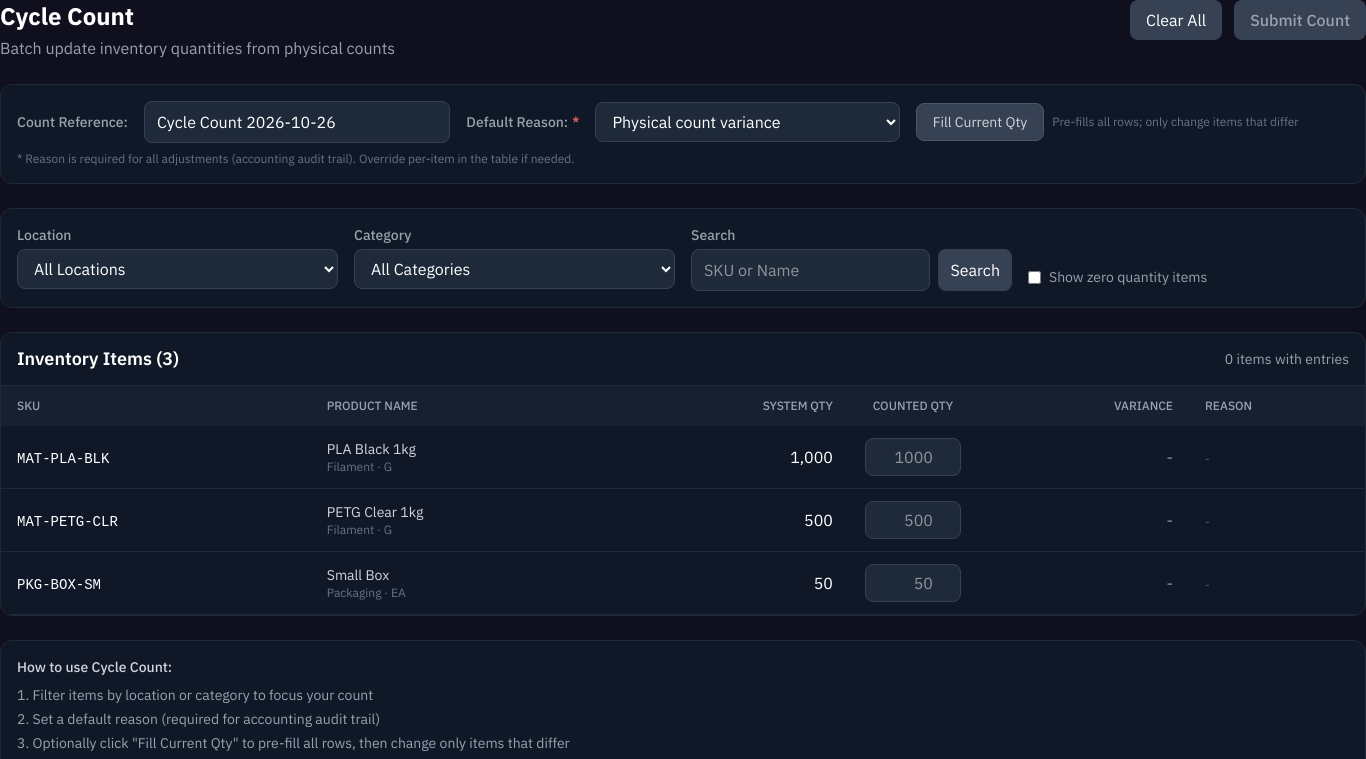
Scenario: AdminCycleCount — review modal opens on Submit Count › shows correct variance and variance value in the review modal
Expected: the text "MAT-PLA-BLK" is shown, top-left (17, 451), bottom-right (109, 467)
Type "1200" into the number field with placeholder "1000". click: (913, 457)
box: top-left (865, 438), bottom-right (961, 476)
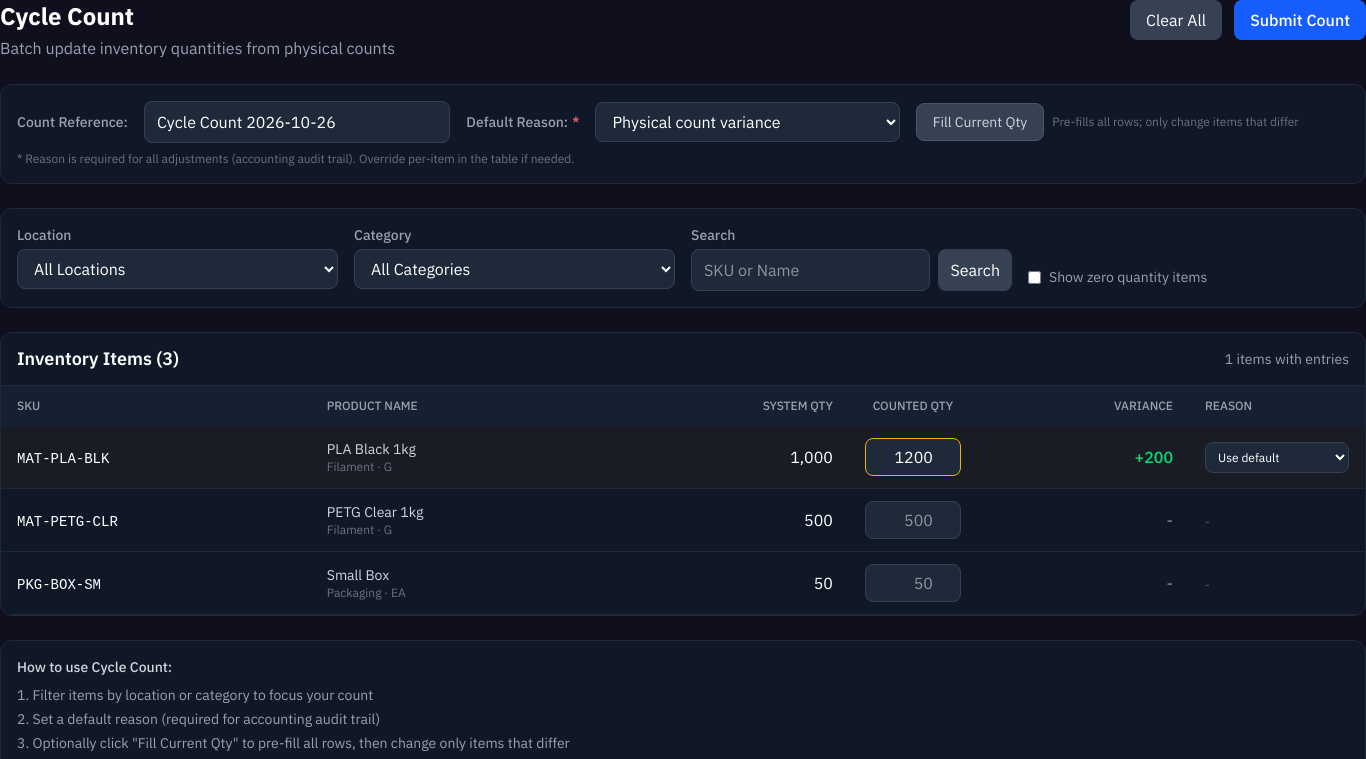
Click the button "Submit Count". click: (1300, 20)
box: top-left (1234, 0), bottom-right (1365, 40)
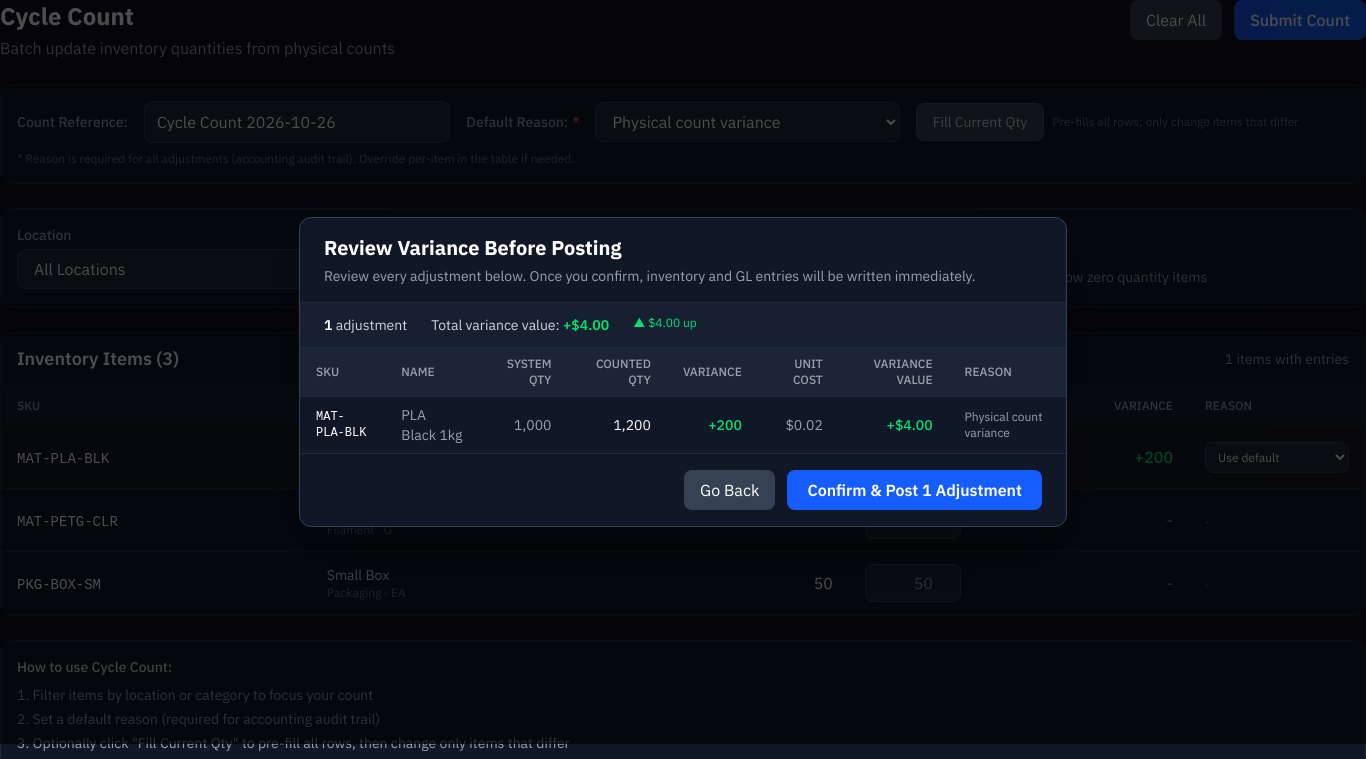
Expected: the heading "Review Variance Before Posting" is shown, top-left (324, 234), bottom-right (622, 261)
Expected: the text "MAT-PLA-BLK" is shown, top-left (300, 396), bottom-right (385, 453)
Expected: the text "+$4.00" is shown, top-left (563, 316), bottom-right (609, 334)
